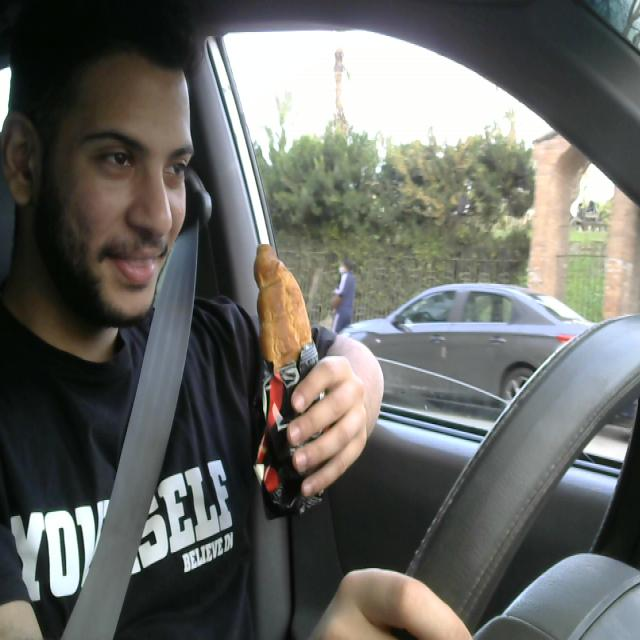eating: (251, 239, 325, 526)
